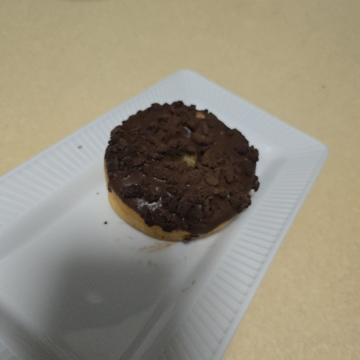doughnut: (93, 87, 256, 270)
